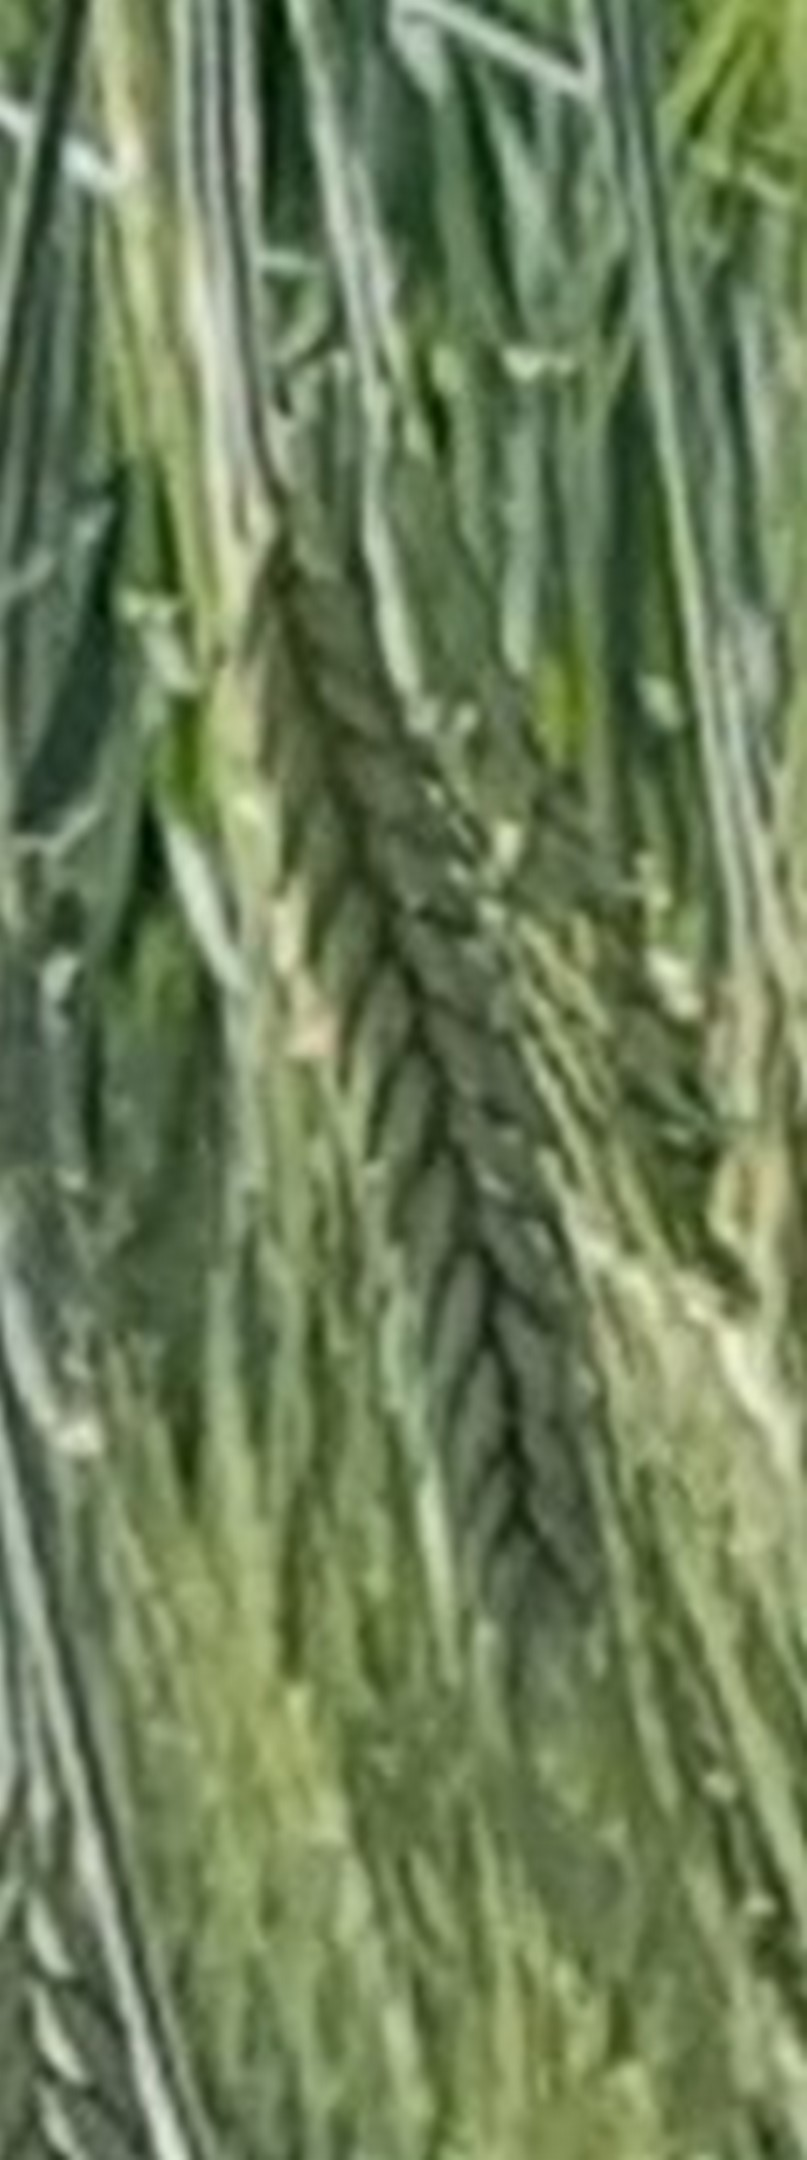Healthy Wheat: (209, 539, 658, 1659)
